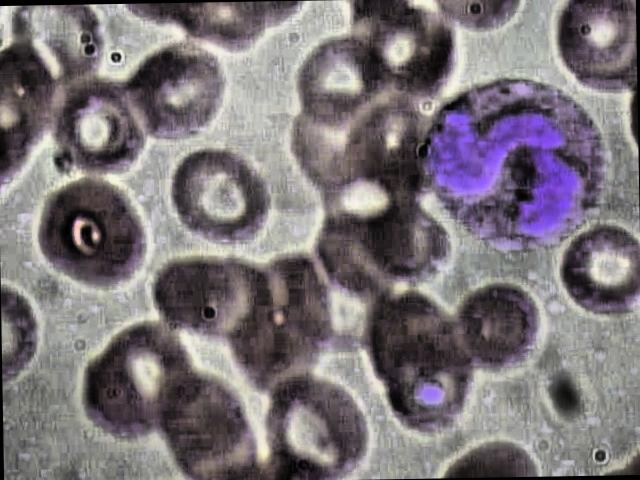RBC: (31, 170, 154, 291), (74, 322, 198, 441), (257, 369, 374, 480), (164, 144, 284, 246), (132, 39, 235, 144), (48, 77, 151, 181), (446, 280, 544, 376), (557, 220, 640, 318), (556, 0, 637, 92), (150, 252, 232, 333)
WBC: (412, 75, 606, 254)
